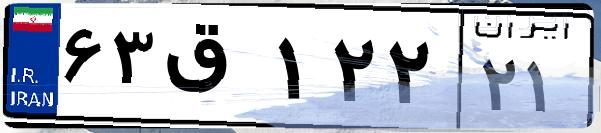1: (270, 28, 330, 110), (525, 38, 570, 115)
2: (385, 28, 445, 110), (330, 28, 385, 110), (475, 38, 525, 113)
3: (110, 28, 158, 98)
6: (57, 26, 110, 100)
ق: (158, 20, 270, 120)
